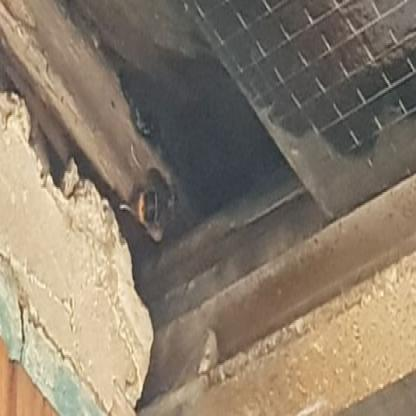Asian Hornet: (126, 152, 183, 244)
